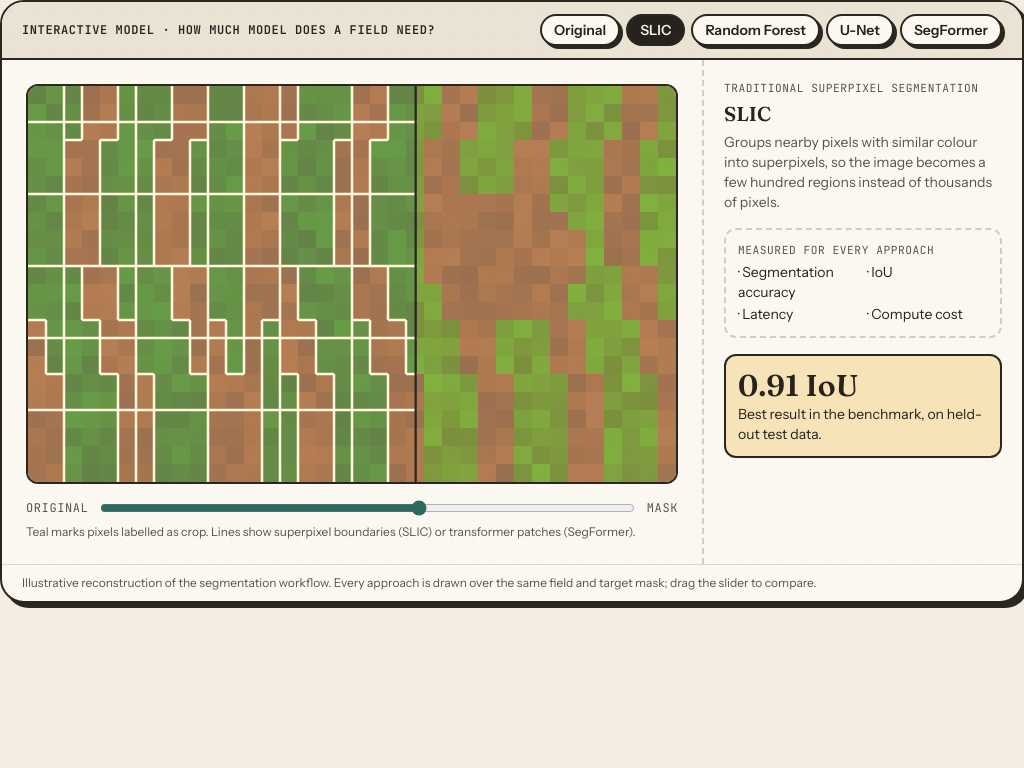
new demos › wheat demo switches approach and labels itself illustrative
expect the text "Illustrative reconstruction of the segmentation workflow" is shown: met, box left=22, top=575, right=816, bottom=590
What coordinates should you click on to do the following:
click the radio button labelled "SegFormer"
I would click on:
 (951, 30)
Its box is left=900, top=14, right=1002, bottom=46.
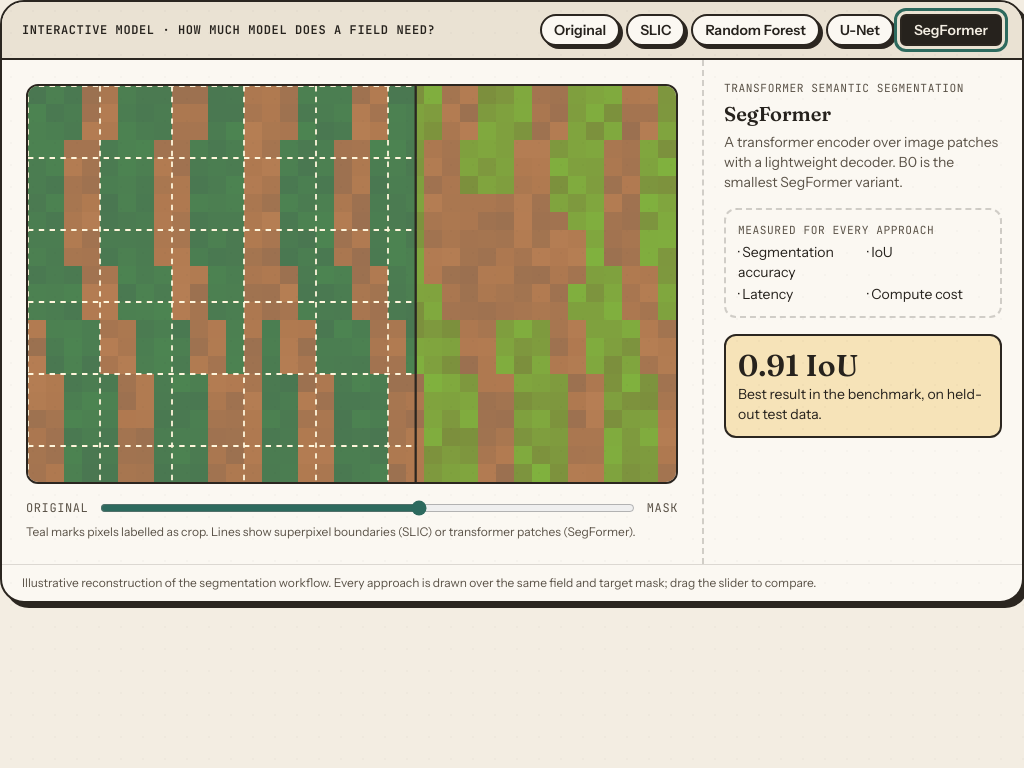
expect the text "0.91 IoU" is shown: met, box left=738, top=347, right=858, bottom=384
expect the text "smallest SegFormer variant" is shown: met, box left=724, top=133, right=998, bottom=191
What coordinates should you click on to do the following:
click the radio button labelled "Original"
I would click on:
 (580, 30)
Its box is left=540, top=14, right=620, bottom=46.
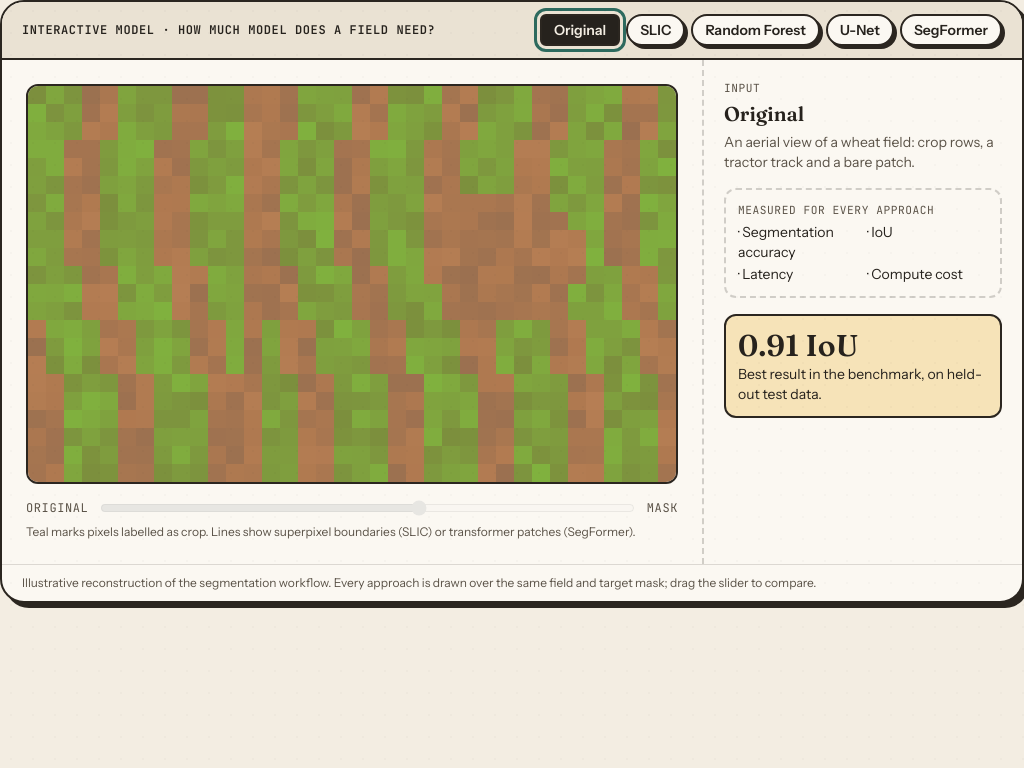
expect the slider named "Drag to compare" is disabled: met, box left=100, top=500, right=635, bottom=516
